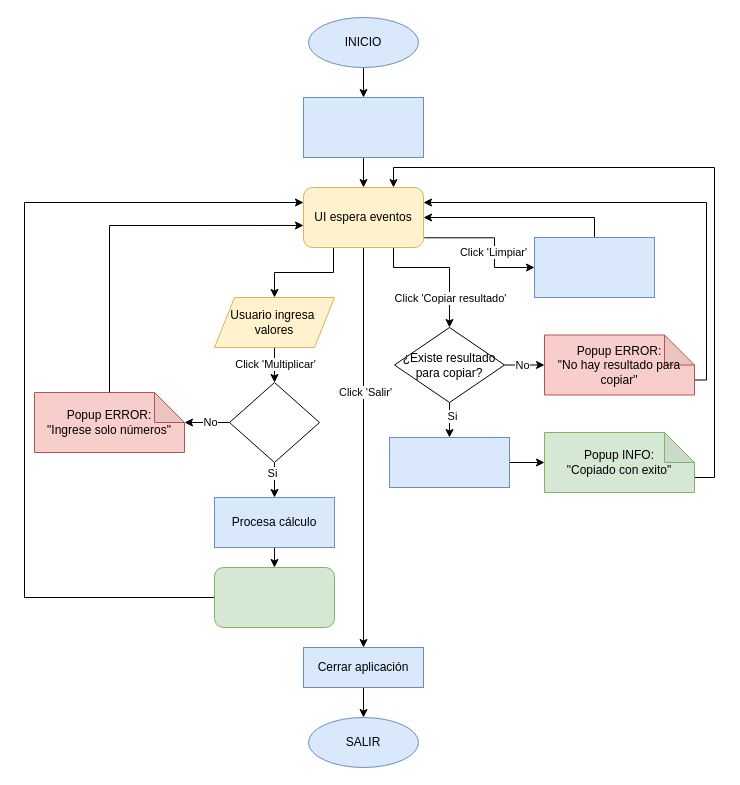
Image size: 740x785. Some labels were removed from this diagram. The shapes that lost their labels are listed below. From the top down, each one's centre as x and y in pixels, then its label:
At (363,127): "Inicialización de aplicación".
At (594,267): "Se limpian campos de widgets".
At (274,422): "¿Datos validos?".
At (449,462): "Copia resultado en portapapeles".
At (274,597): "Interfaz muestra resultado".
